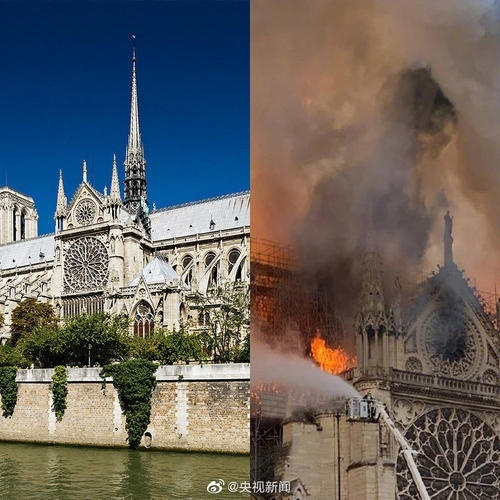fire: (308, 331, 357, 375)
